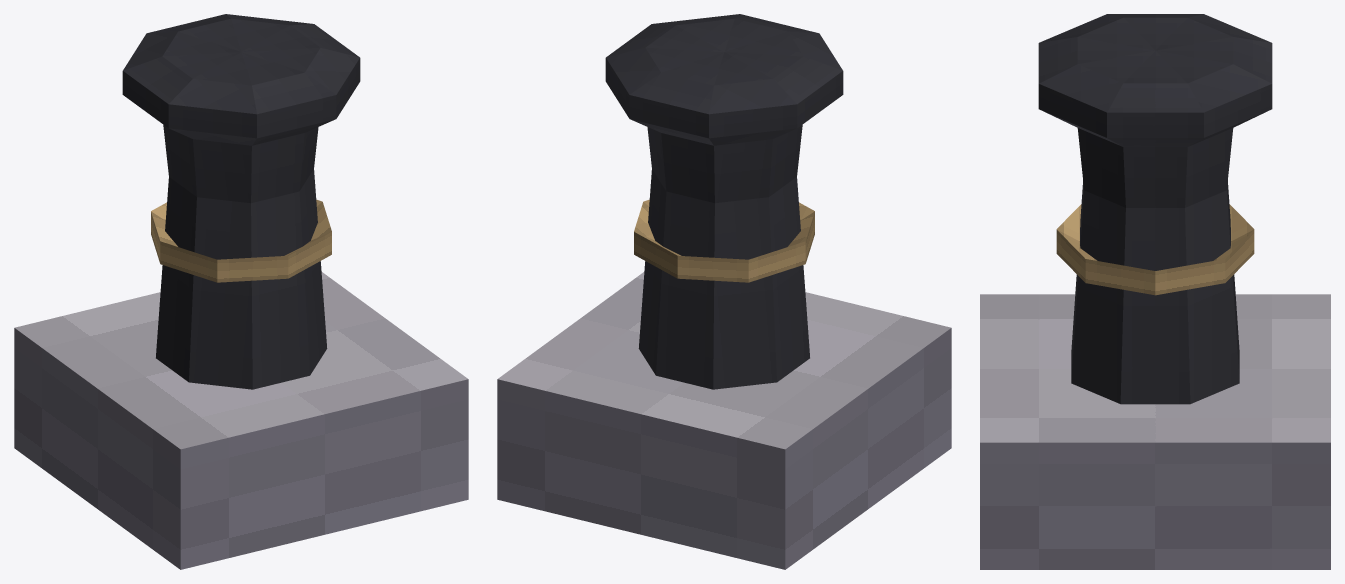
Rendered from mooring-bollard.glb.
3 views of the same model, side by side, from view 1: azimuth 30°, elevation 25°; view 2: azimuth 150°, elevation 25°; view 3: azimuth 270°, elevation 25° (orthographic). The views are drawn at different scales.
Parts seen in each view (by area): view 1: mooring-bollard.001; view 2: mooring-bollard.001; view 3: mooring-bollard.001.
Part boxes in pixels (<box>): mooring-bollard.001: <box>14,14,468,569</box>; mooring-bollard.001: <box>497,14,951,569</box>; mooring-bollard.001: <box>980,14,1330,569</box>.
Size of the model in its own units: 0.5 by 0.7 by 0.5.
1 material, 1 textured.
